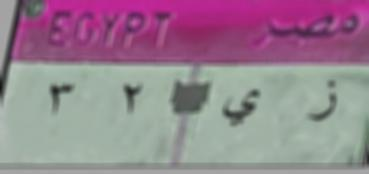2: (112, 80, 160, 121)
3: (37, 80, 81, 114)
yaa: (222, 88, 266, 127)
zay: (304, 75, 344, 130)
